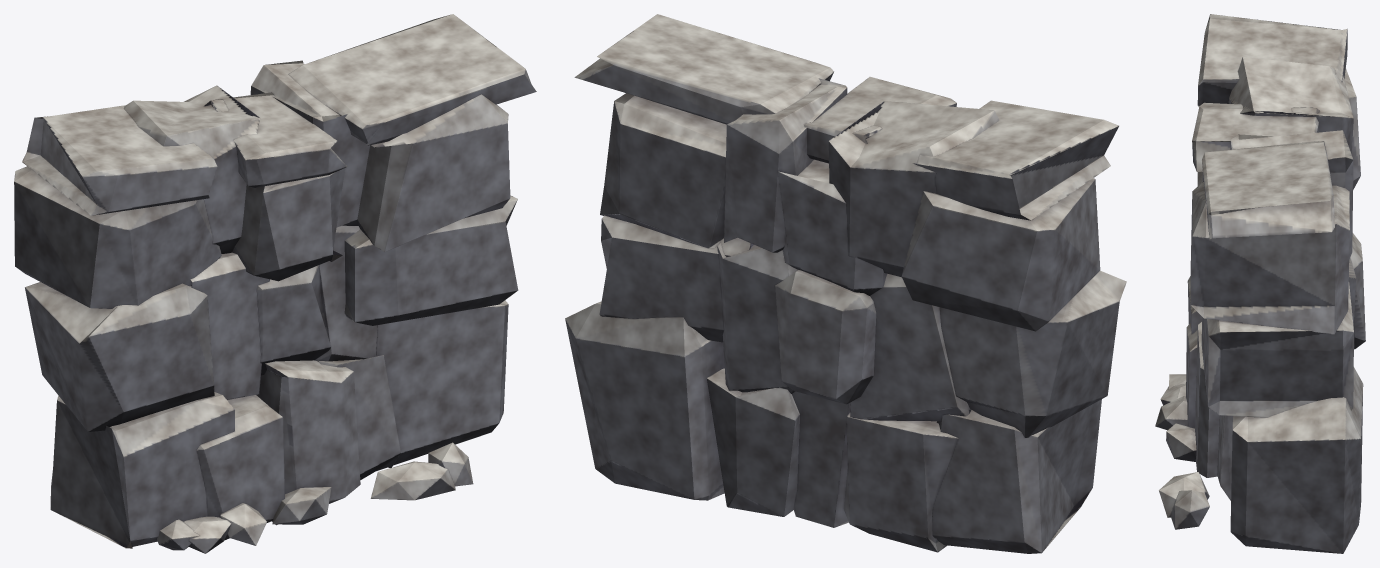
File: Env_CliffGray_3.glb
The picture shows the model from 3 angles, left to right: view 1: azimuth 30°, elevation 25°; view 2: azimuth 150°, elevation 25°; view 3: azimuth 270°, elevation 25°; orthographic projection. The views are drawn at different scales.
Parts seen in each view (by area): view 1: Env_CliffGray_3.001; view 2: Env_CliffGray_3.001; view 3: Env_CliffGray_3.001.
Part boxes in pixels (<box>): Env_CliffGray_3.001: <box>14,14,536,553</box>; Env_CliffGray_3.001: <box>565,14,1126,553</box>; Env_CliffGray_3.001: <box>1155,14,1365,553</box>.
Bounding box in the file's own units: 12 × 9.98 × 5.19.
Materials: 1 (1 with a texture image).
